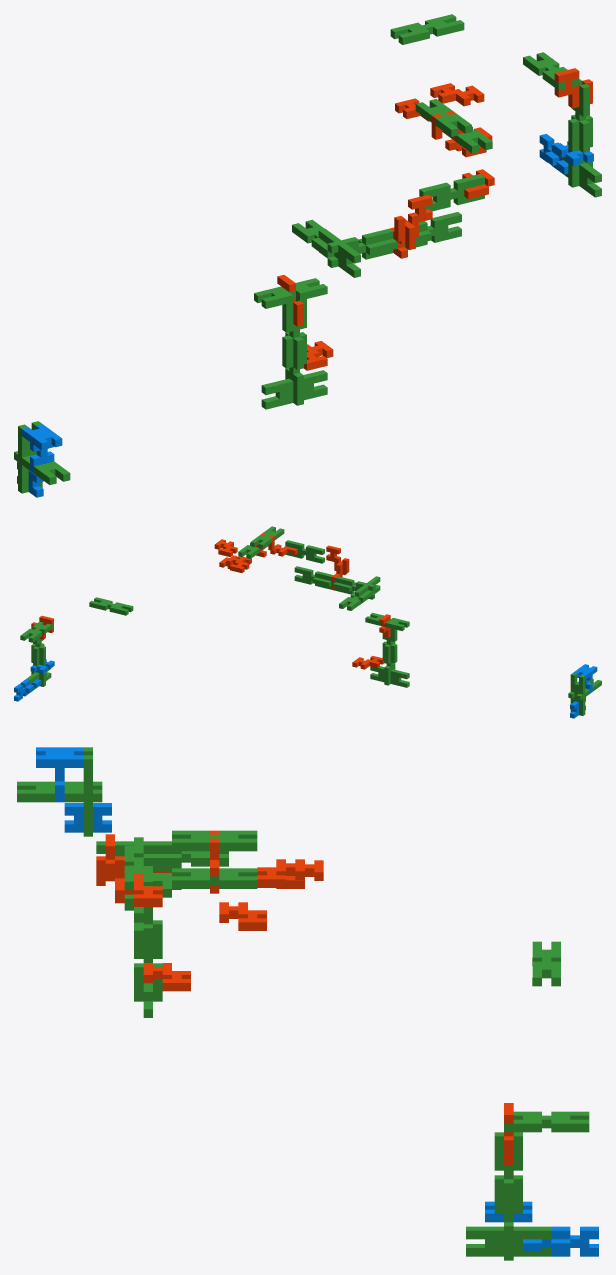
File: ext.glb
The picture shows the model from 3 angles, top to bottom: view 1: azimuth 30°, elevation 25°; view 2: azimuth 150°, elevation 25°; view 3: azimuth 270°, elevation 25°; orthographic projection. The views are drawn at different scales.
Visible parts, largest first — view 1: H_SIM (×17), L_SIM (×3); view 2: H_SIM (×14), L_SIM (×4); view 3: H_SIM (×12), L_SIM (×4), X_SIM (×3).
Boxes of the visible parts, x1,y1,x2,y2 form: H_SIM (×17): (14, 14, 601, 493); L_SIM (×3): (394, 68, 592, 241); H_SIM (×14): (20, 526, 585, 715); L_SIM (×4): (214, 539, 384, 669); H_SIM (×12): (17, 747, 589, 1260); L_SIM (×4): (115, 859, 304, 991); X_SIM (×3): (36, 747, 598, 1256).
Bounding box in the file's own units: 14.14 × 4.03 × 7.97.
